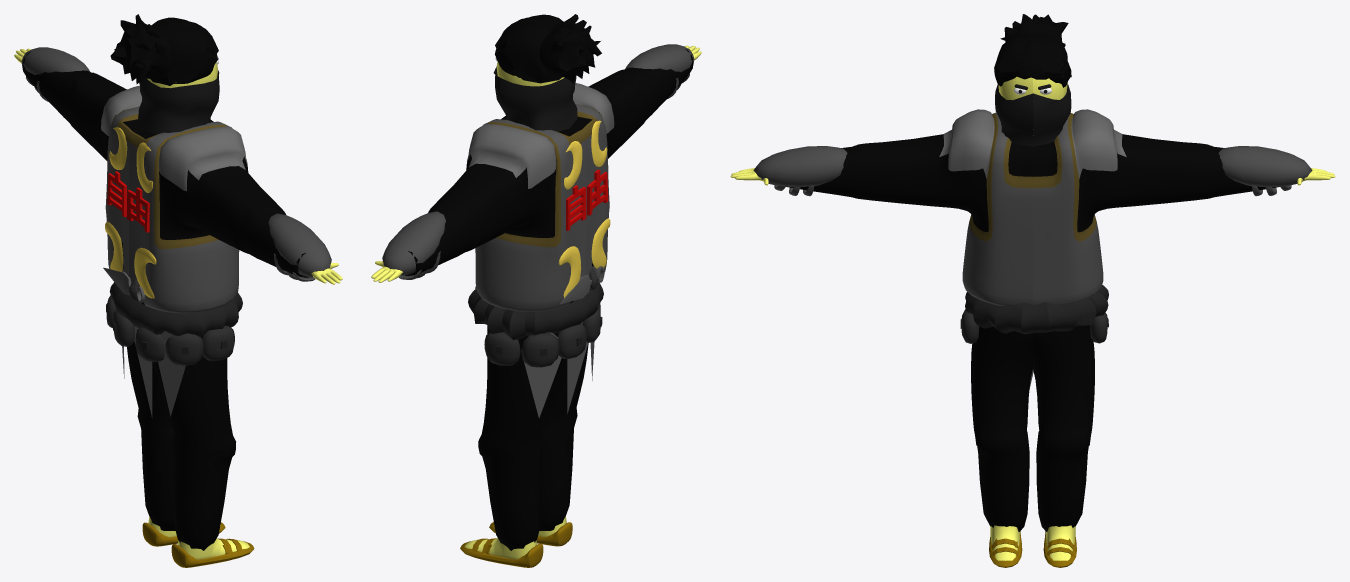
File: JinkedoneV2.fbx
3 renders of one model, left to right at view 1: azimuth 30°, elevation 25°; view 2: azimuth 150°, elevation 25°; view 3: azimuth 270°, elevation 25°, orthographic. The views are drawn at different scales.
Visible parts, largest first — view 1: Sphere.002; view 2: Sphere.002; view 3: Sphere.002.
Boxes of the visible parts, x1=… form: Sphere.002: x1=14, y1=14, x2=342, y2=567; Sphere.002: x1=371, y1=14, x2=701, y2=567; Sphere.002: x1=730, y1=14, x2=1335, y2=567.
Size of the model in its own units: 47.89 by 207 by 221.
1 material, 1 textured.
